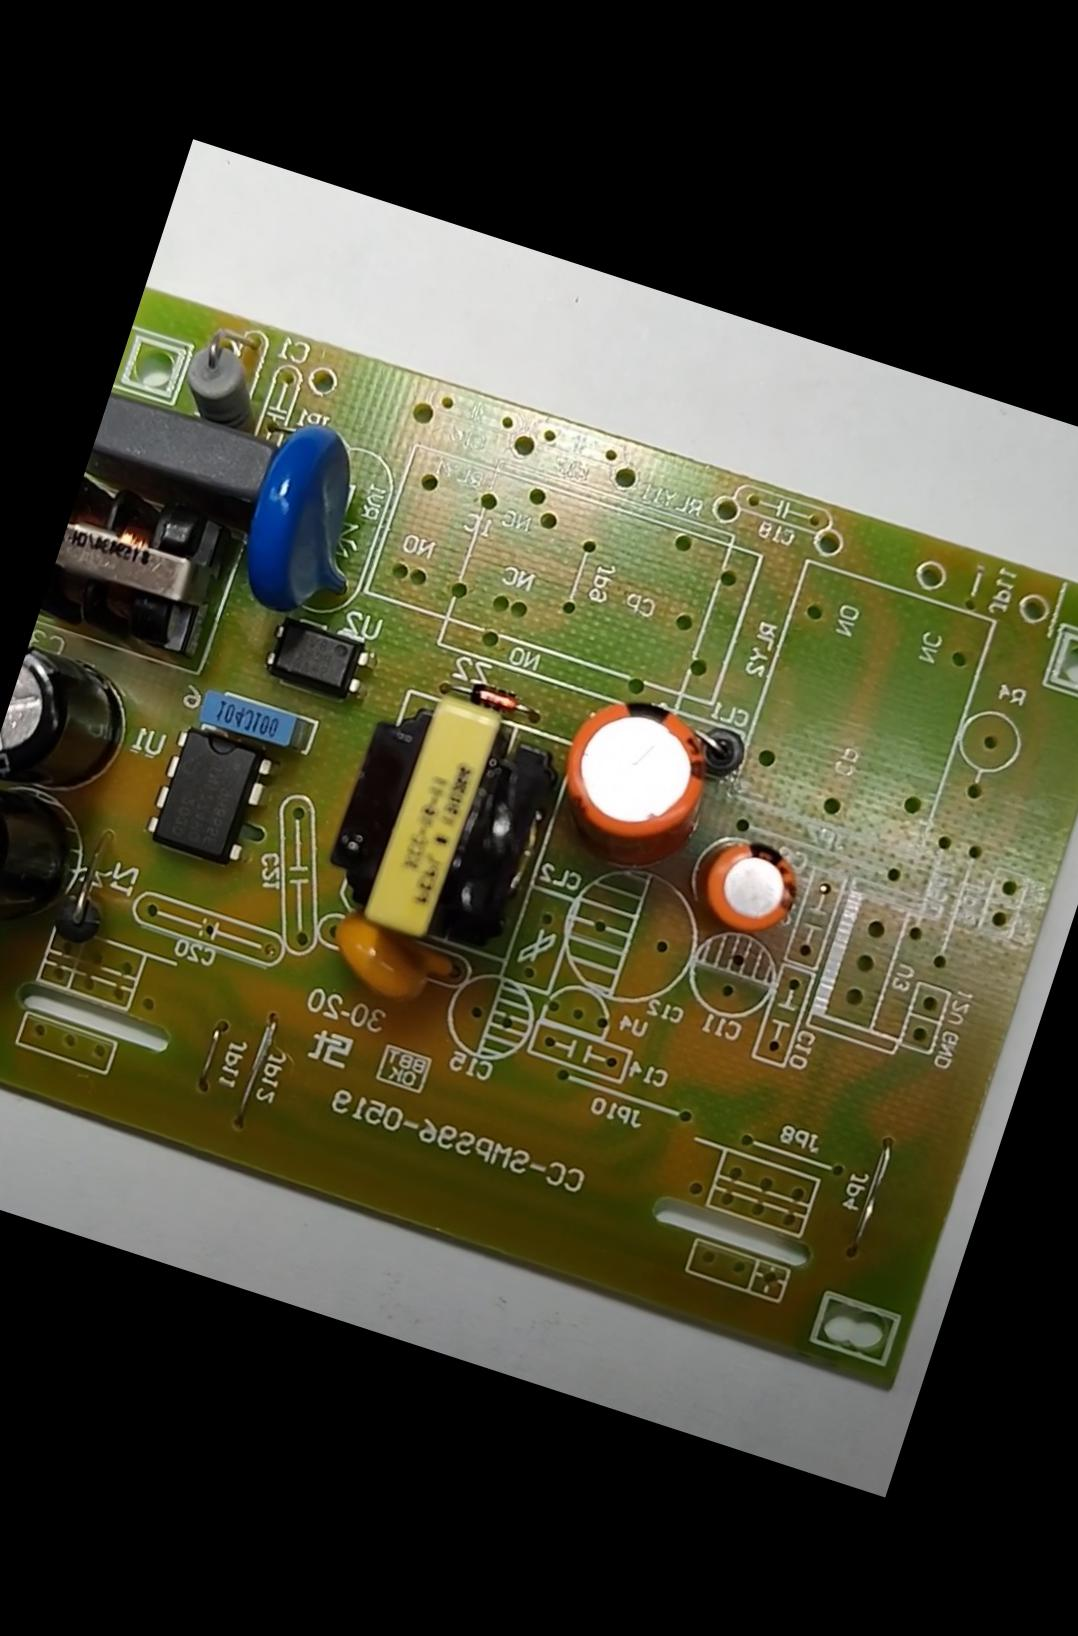Cap1: (547, 681, 725, 859)
Cap2: (691, 824, 807, 942)
Cap3: (0, 781, 100, 964)
Cap4: (0, 641, 142, 820)
MOSFET: (138, 717, 279, 872)
Mov: (223, 411, 397, 629)
Resistor: (168, 331, 276, 434)
Transformer: (310, 678, 564, 967), (40, 475, 239, 663)
